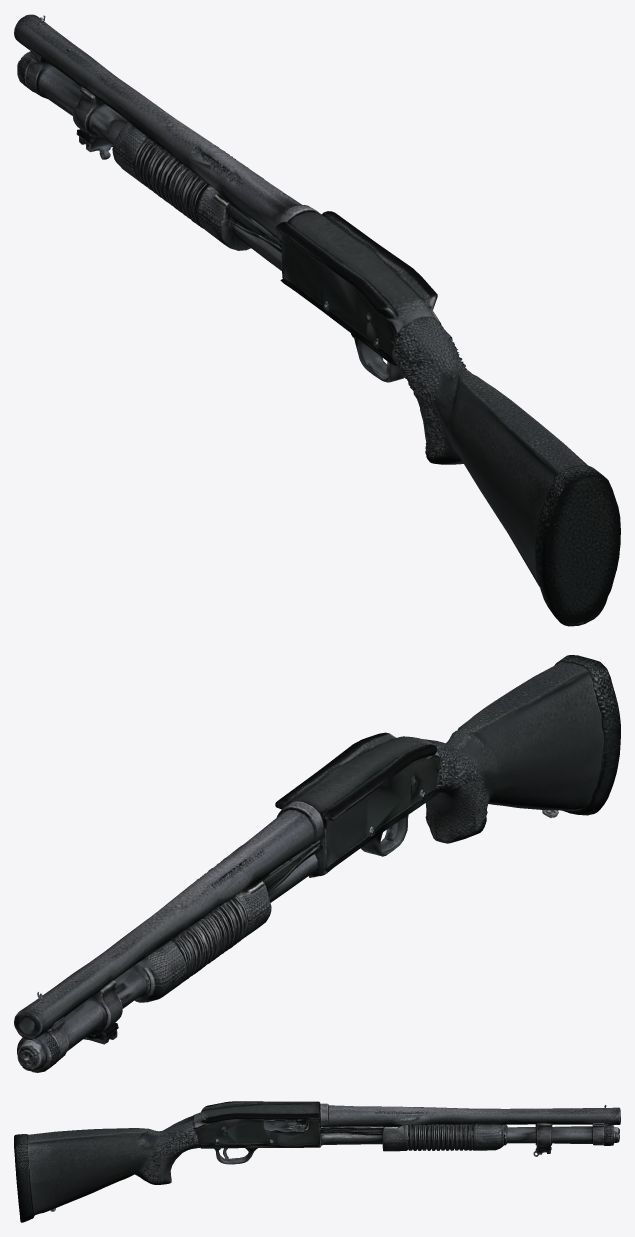
Rendered from shotgun-normal.glb.
3 views of the same model, one above another, from view 1: azimuth 30°, elevation 25°; view 2: azimuth 150°, elevation 25°; view 3: azimuth 270°, elevation 25° (orthographic). The views are drawn at different scales.
Visible parts, largest first — view 1: tripo_node_32a92fe0-6ecb-478d-adba-fbd854698c4d; view 2: tripo_node_32a92fe0-6ecb-478d-adba-fbd854698c4d; view 3: tripo_node_32a92fe0-6ecb-478d-adba-fbd854698c4d.
Part boxes in pixels (<box>): tripo_node_32a92fe0-6ecb-478d-adba-fbd854698c4d: <box>14,14,620,626</box>; tripo_node_32a92fe0-6ecb-478d-adba-fbd854698c4d: <box>14,655,620,1072</box>; tripo_node_32a92fe0-6ecb-478d-adba-fbd854698c4d: <box>14,1101,620,1222</box>.
Bounding box in the file's own units: 0.0775 × 0.2072 × 0.9799.
Materials: 1 (1 with a texture image).
